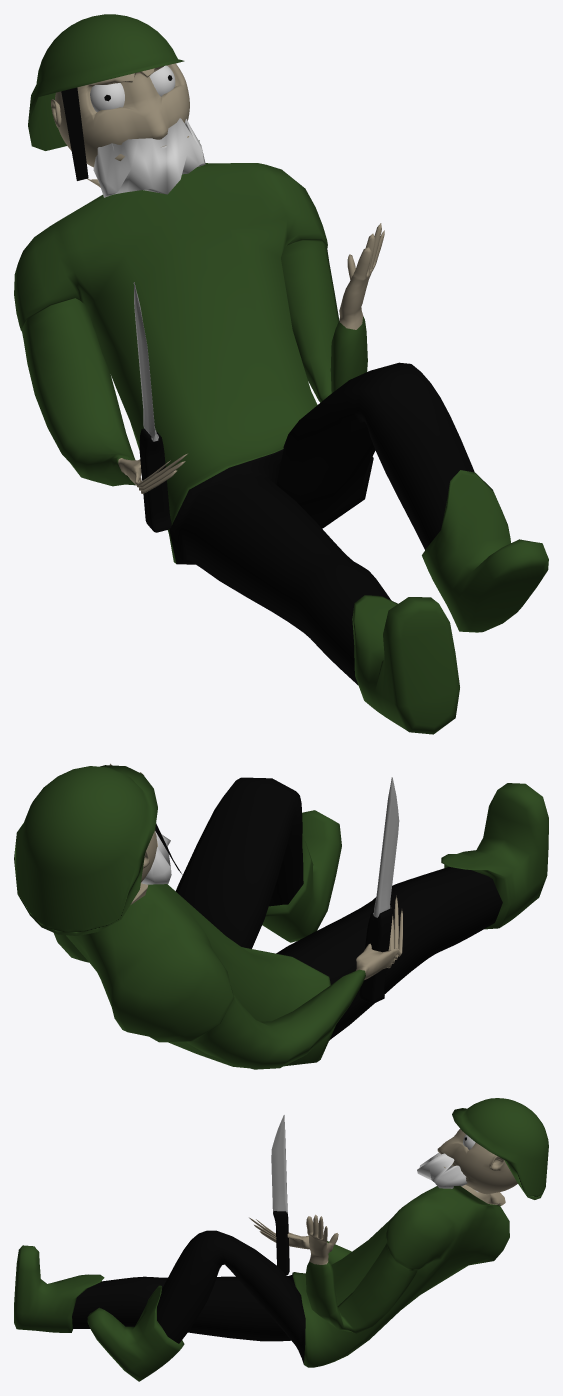
The model's file is MC Slide.fbx.
The picture shows the model from 3 angles, top to bottom: view 1: azimuth 30°, elevation 25°; view 2: azimuth 150°, elevation 25°; view 3: azimuth 270°, elevation 25°; orthographic projection. The views are drawn at different scales.
Parts seen in each view (by area): view 1: Body, Boot, Helmet, Head, Beard, Knife2:polySurface11; view 2: Body, Helmet, Boot, Knife2:polySurface11, Beard, Head; view 3: Body, Boot, Helmet, Head, Knife2:polySurface11, Beard.
Part boxes in pixels (x1,y1,x2,y2): Body: (14,140,474,685); Boot: (352,470,548,734); Helmet: (28,14,184,180); Head: (51,63,189,167); Beard: (93,118,205,197); Knife2:polySurface11: (133,282,171,532); Body: (54,763,502,1069); Helmet: (14,765,182,935); Boot: (262,783,548,942); Knife2:polySurface11: (359,777,399,1003); Beard: (141,831,171,884); Head: (141,831,157,882); Body: (72,1185,509,1367); Boot: (14,1245,184,1381); Helmet: (452,1098,548,1199); Head: (437,1129,517,1194); Knife2:polySurface11: (271,1115,289,1275); Beard: (417,1152,467,1188).
Bounding box in the file's own units: 3.35 × 4.59 × 8.7.
